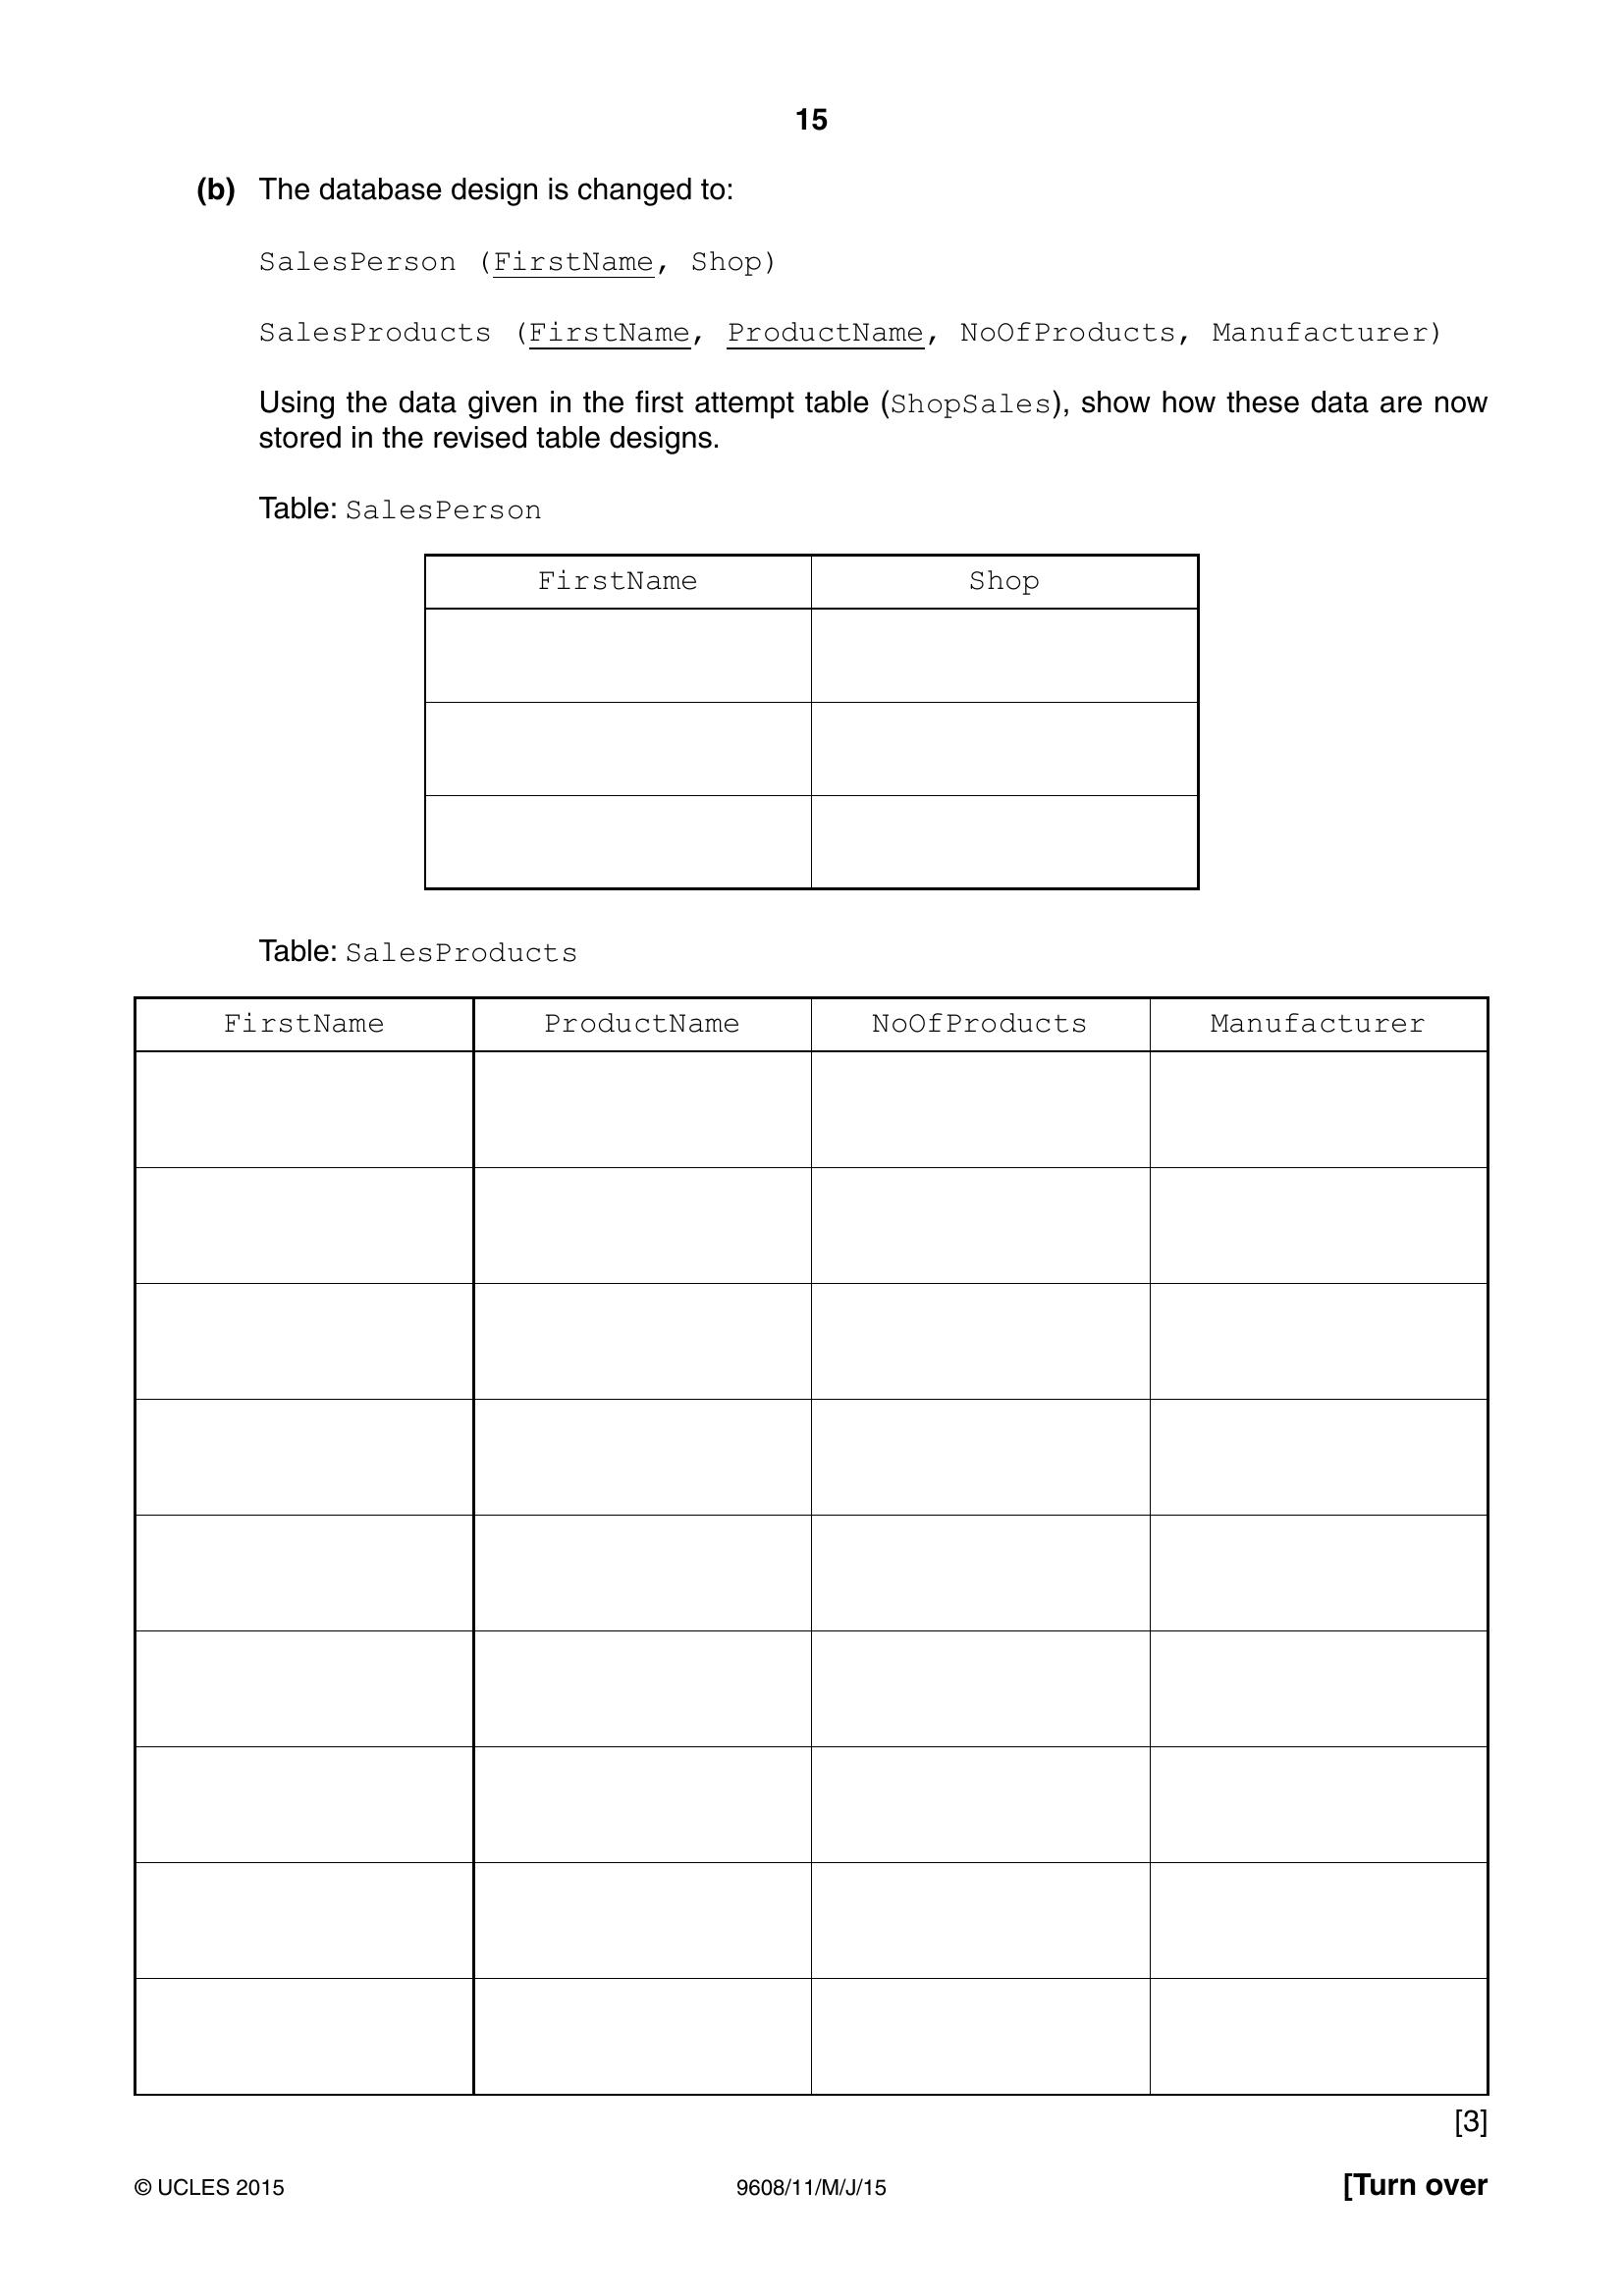continued question: (5, 151, 1624, 2134)
